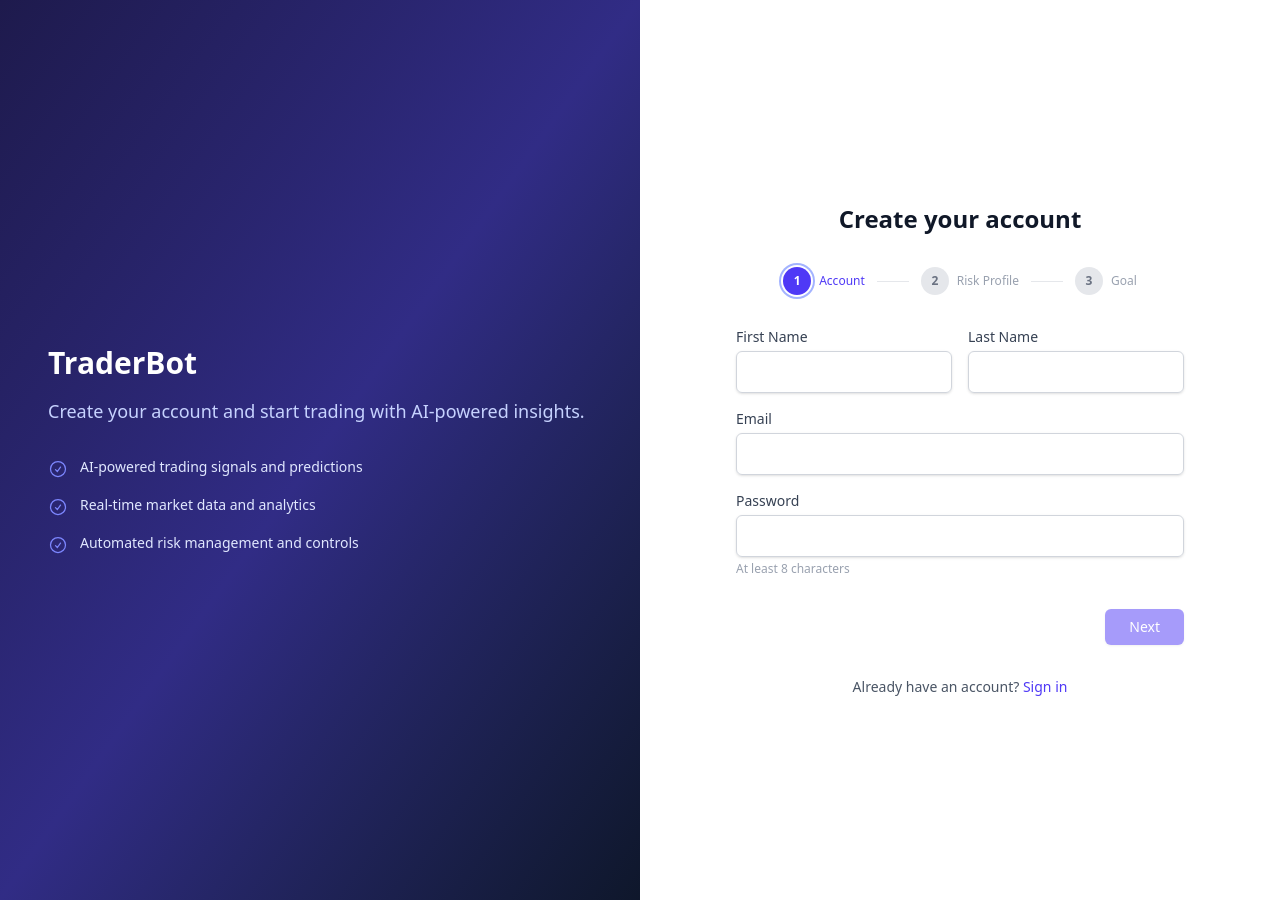
RegisterPage › advances to step 2 with risk profile cards
In the field labelled "First Name": (844, 372) [736,351,952,393], type "Test"
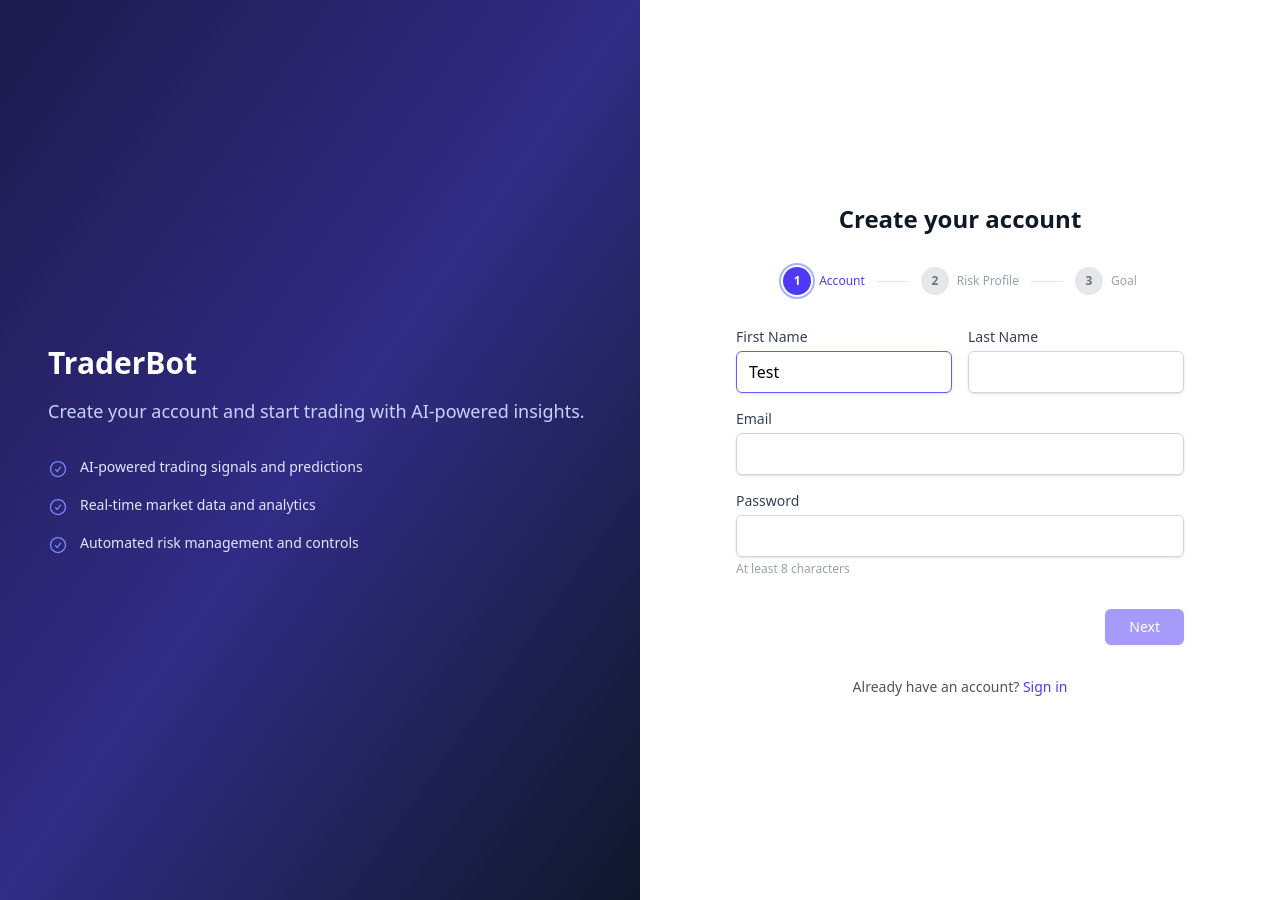
In the field labelled "Last Name": (1076, 372) [968,351,1184,393], type "User"
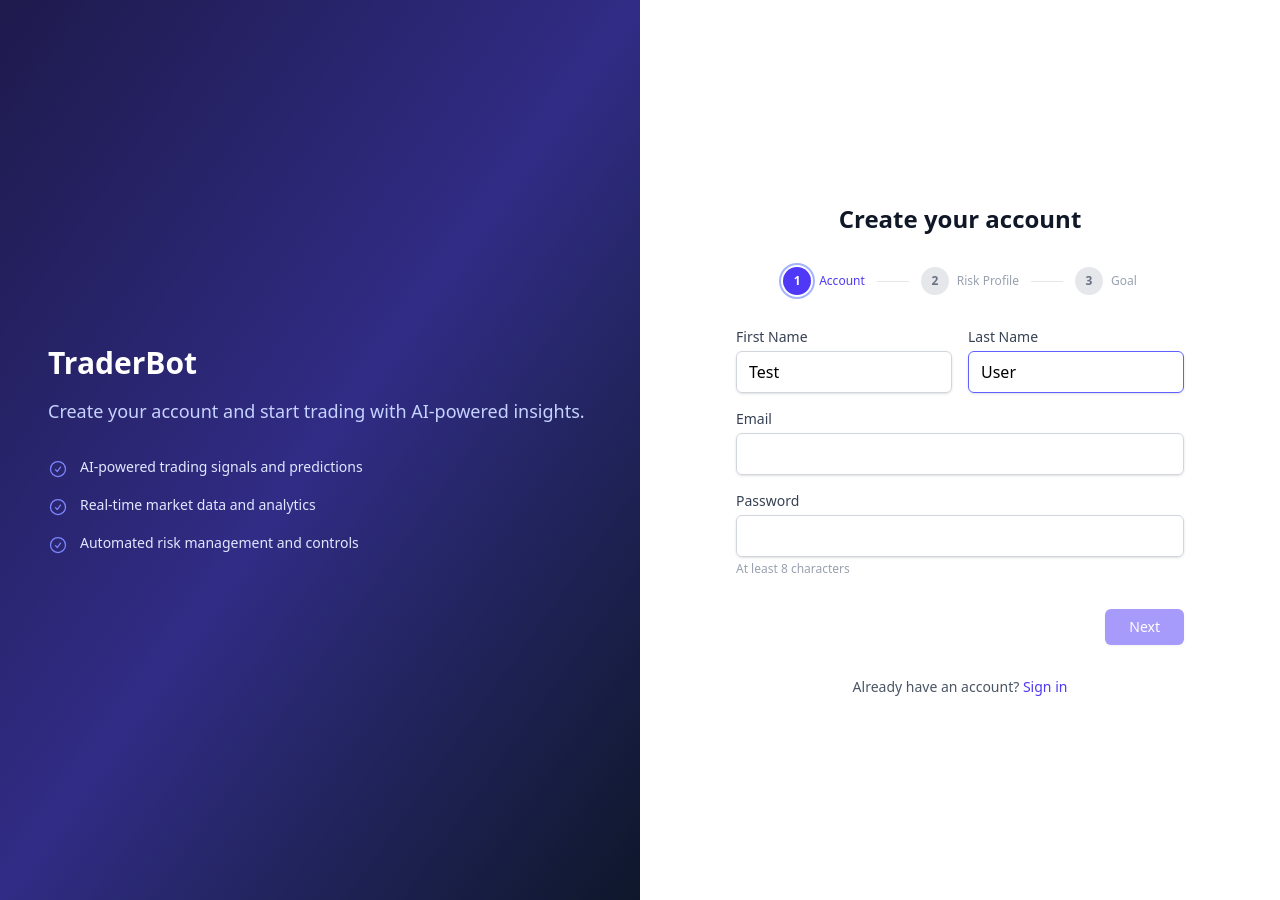
In the field labelled "Email": (960, 454) [736,433,1184,475], type "test@example.com"
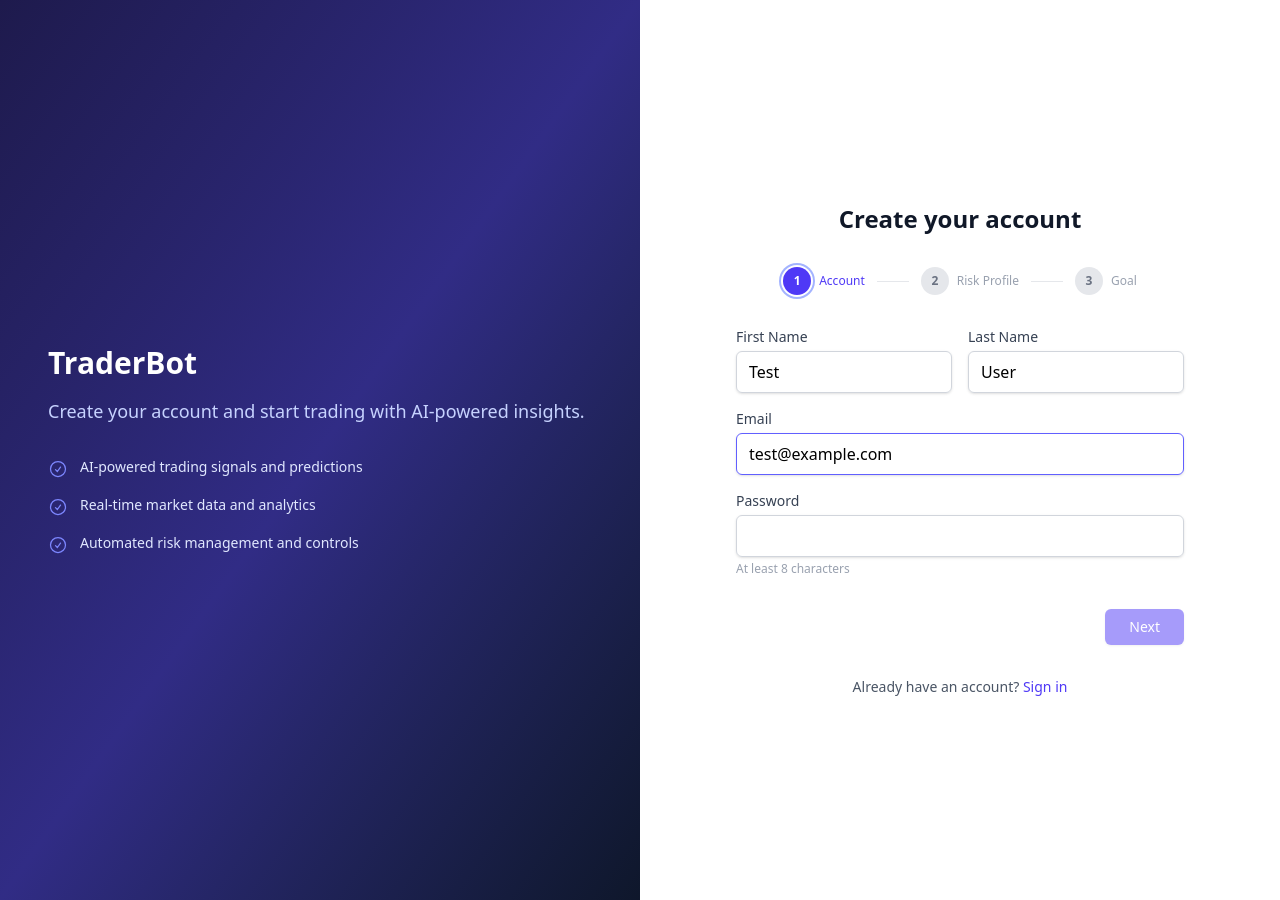
In the password field labelled "Password": (960, 536) [736,515,1184,557], type "password123"
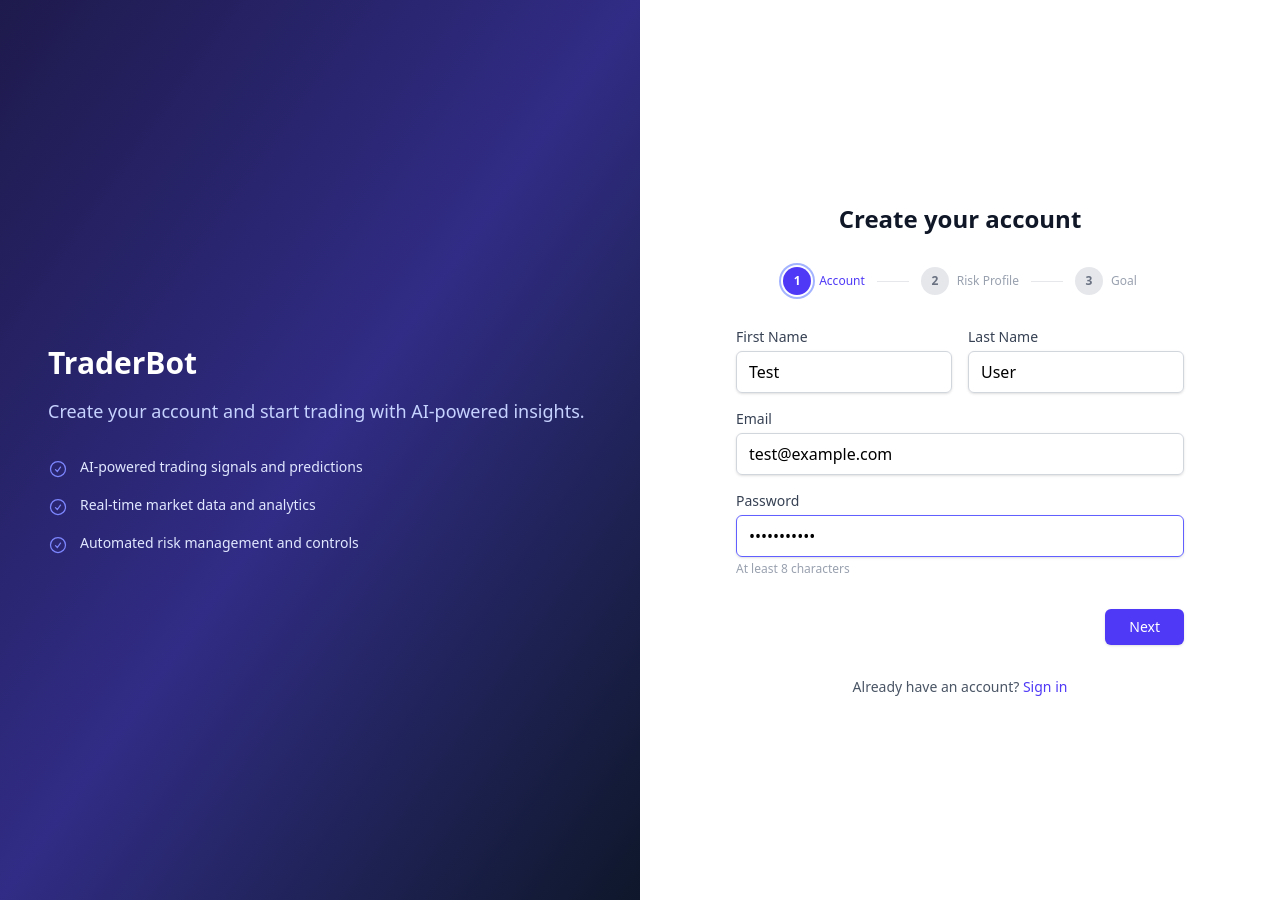
Click the button "Next": click(1145, 627) [1105,609,1184,645]
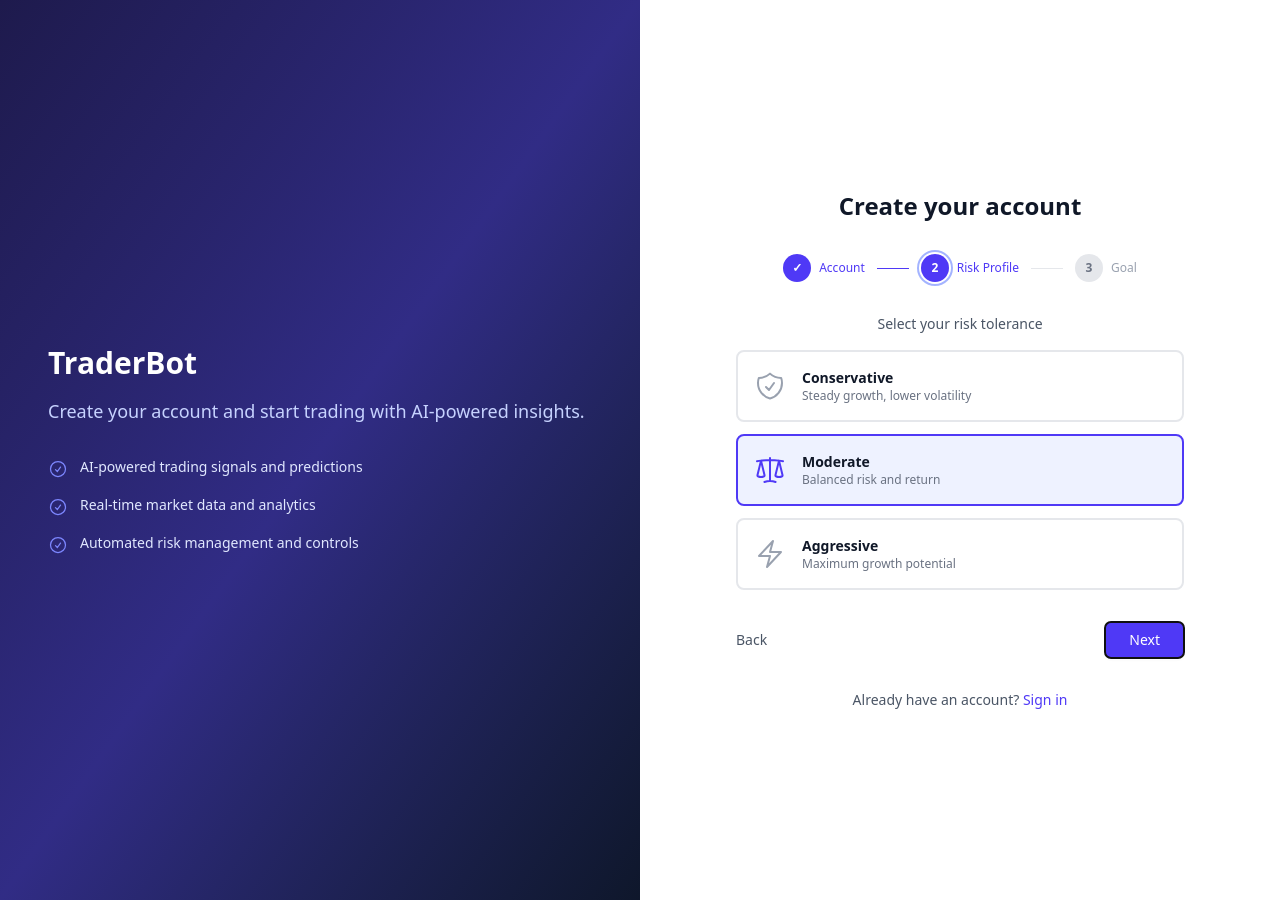
Expected: the text "Select your risk tolerance" is shown, [878,314,1043,333]
Expected: the text "Conservative" is shown, [802,368,893,387]
Expected: the text "Moderate" is shown, [802,452,870,471]
